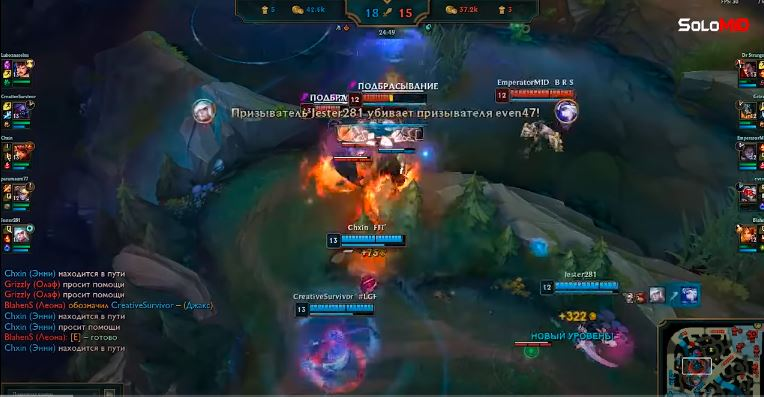dog: (292, 299, 378, 321), (536, 276, 622, 298), (347, 89, 431, 109), (324, 231, 410, 250), (493, 87, 579, 105), (297, 101, 382, 118)
